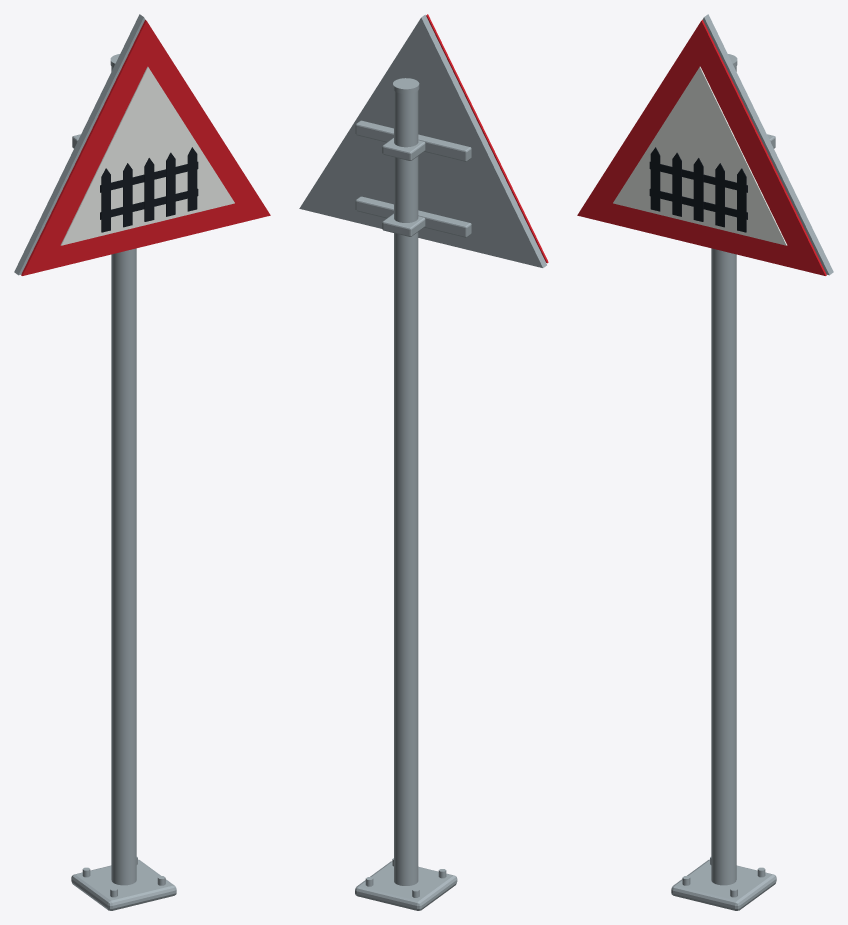
File: DS_Sign_RailwayBarrier.fbx
3 views of the same model, side by side, from view 1: azimuth 30°, elevation 25°; view 2: azimuth 150°, elevation 25°; view 3: azimuth 330°, elevation 25° (orthographic). The views are drawn at different scales.
Parts seen in each view (by area): view 1: Post, Face_Border, Face_Field, BasePlate, Plate_Back, Pictogram_Picket.002, Pictogram_Picket.004, Pictogram_Picket, Pictogram_Picket.001, Pictogram_Picket.003; view 2: Plate_Back, Post, BasePlate, RearRail, RearRail.001, Face_Border, PostClamp, PostClamp.001; view 3: Post, Face_Border, Face_Field, BasePlate, Plate_Back, Pictogram_Picket.002, Pictogram_Picket, Pictogram_Picket.003, Pictogram_Picket.004, Pictogram_Picket.001.
Boxes of the visible parts, x1=… form: Post: x1=111, y1=66, x2=136, y2=885; Face_Border: x1=21, y1=20, x2=270, y2=275; Face_Field: x1=60, y1=66, x2=234, y2=245; BasePlate: x1=71, y1=859, x2=176, y2=910; Plate_Back: x1=14, y1=14, x2=145, y2=275; Pictogram_Picket.002: x1=144, y1=158, x2=154, y2=221; Pictogram_Picket.004: x1=187, y1=147, x2=197, y2=211; Pictogram_Picket: x1=101, y1=168, x2=110, y2=232; Pictogram_Picket.001: x1=123, y1=163, x2=132, y2=227; Pictogram_Picket.003: x1=166, y1=152, x2=175, y2=216; Plate_Back: x1=299, y1=14, x2=546, y2=267; Post: x1=394, y1=91, x2=418, y2=885; BasePlate: x1=355, y1=861, x2=457, y2=910; RearRail: x1=355, y1=196, x2=471, y2=237; RearRail.001: x1=355, y1=120, x2=471, y2=161; Face_Border: x1=426, y1=14, x2=548, y2=263; PostClamp: x1=382, y1=213, x2=425, y2=236; PostClamp.001: x1=382, y1=138, x2=425, y2=160; Post: x1=711, y1=66, x2=736, y2=885; Face_Border: x1=577, y1=20, x2=826, y2=275; Face_Field: x1=613, y1=66, x2=787, y2=245; BasePlate: x1=671, y1=859, x2=776, y2=910; Plate_Back: x1=702, y1=14, x2=833, y2=275; Pictogram_Picket.002: x1=693, y1=158, x2=703, y2=221; Pictogram_Picket: x1=650, y1=147, x2=660, y2=211; Pictogram_Picket.003: x1=715, y1=163, x2=724, y2=227; Pictogram_Picket.004: x1=737, y1=168, x2=746, y2=232; Pictogram_Picket.001: x1=672, y1=152, x2=681, y2=216.
Size of the model in its own units: 87.47 by 295 by 27.4.
